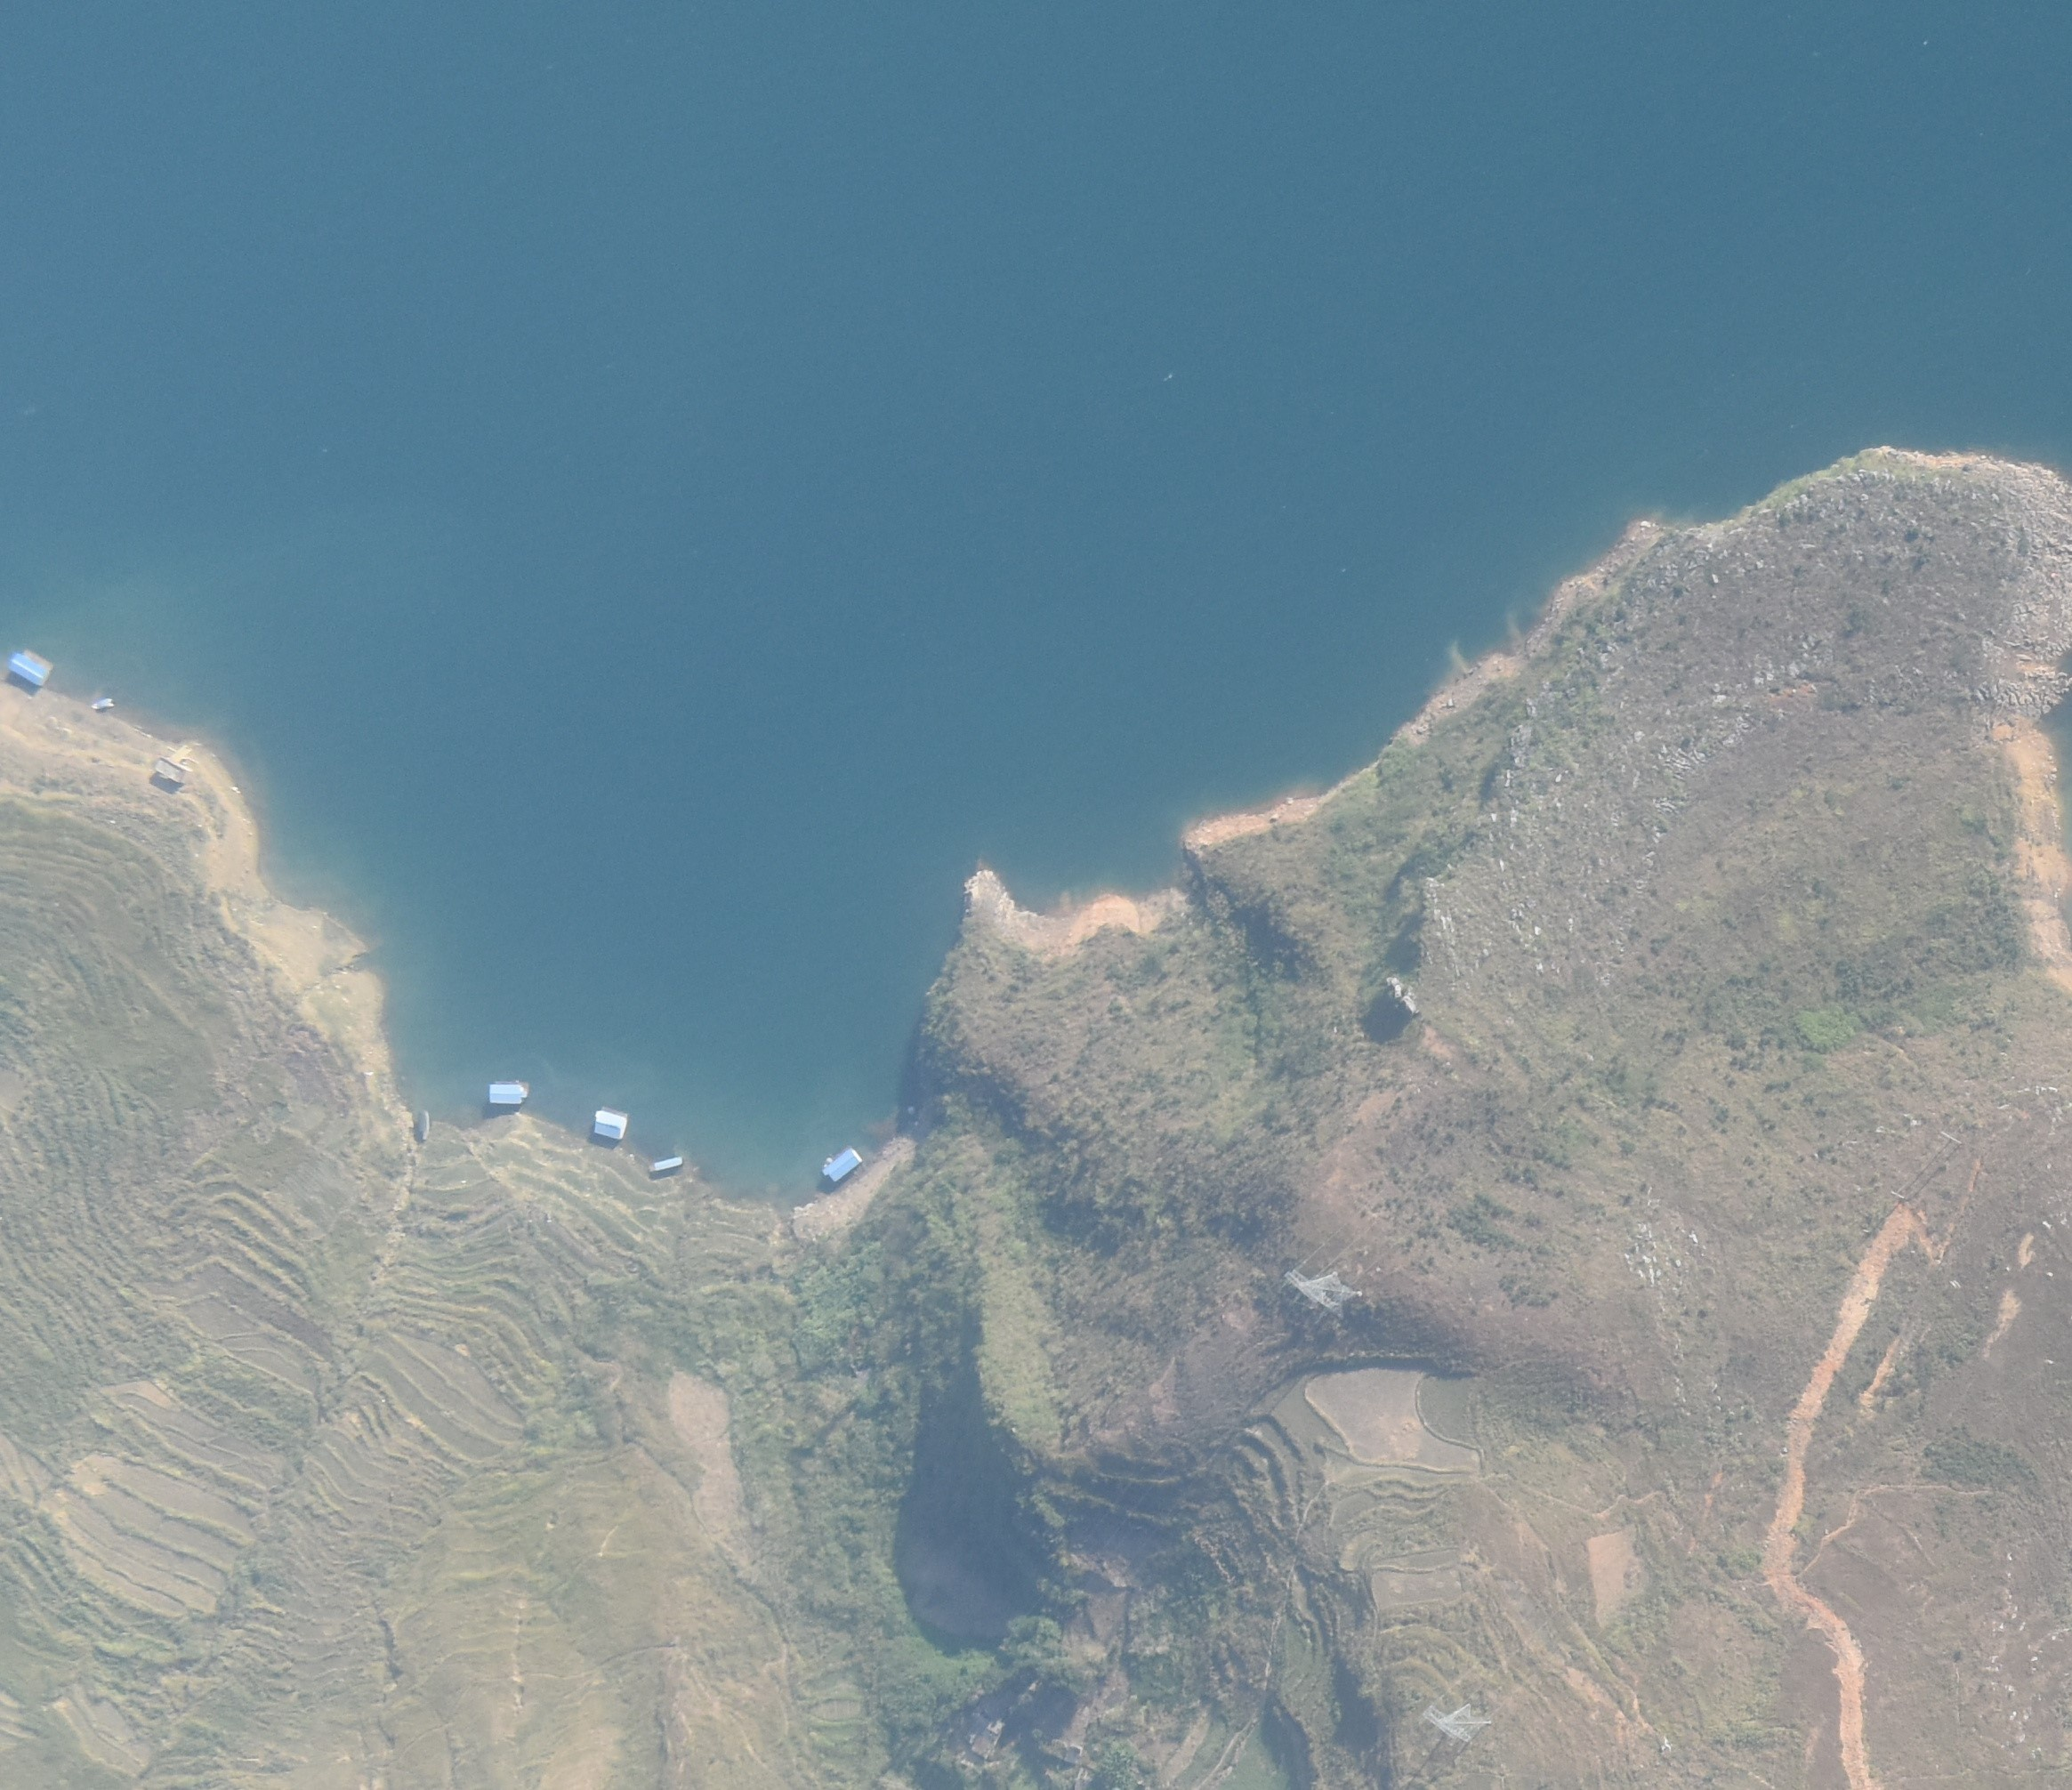building: (154, 756, 189, 786), (417, 1110, 429, 1141)
cable-tower: (1284, 1267, 1360, 1317), (1421, 1697, 1493, 1745)
prefabricated-house: (7, 651, 52, 684), (823, 1148, 862, 1184), (593, 1110, 629, 1140), (490, 1081, 524, 1105), (654, 1156, 682, 1171), (93, 697, 112, 711)
